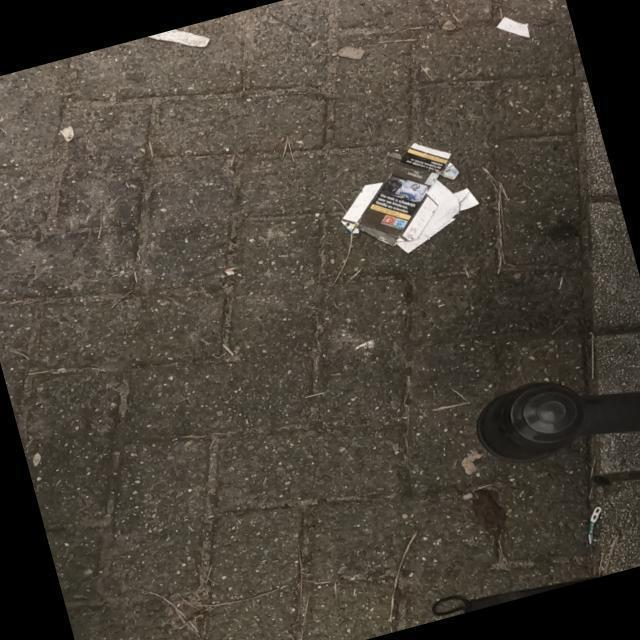Paper: (338, 140, 481, 254)
